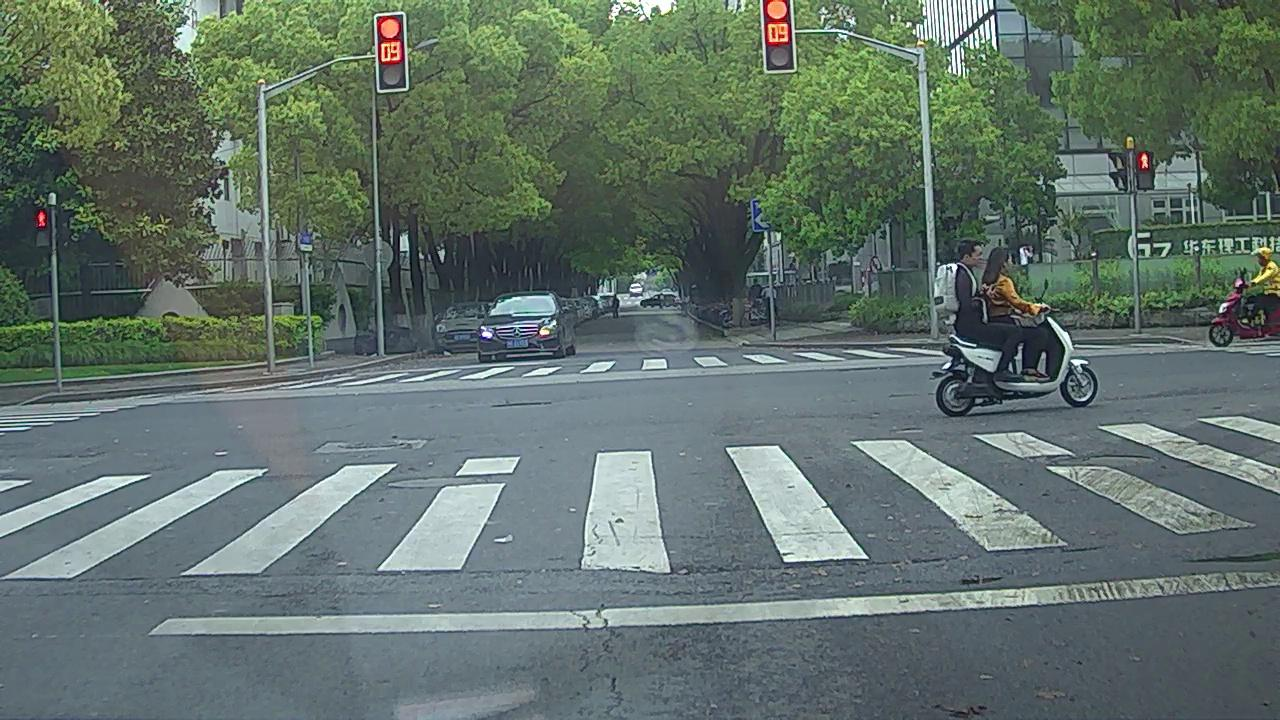traffic_light: (763, 1, 794, 69), (379, 17, 406, 88)
